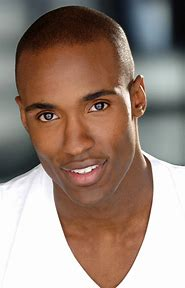person: (12, 5, 149, 208)
